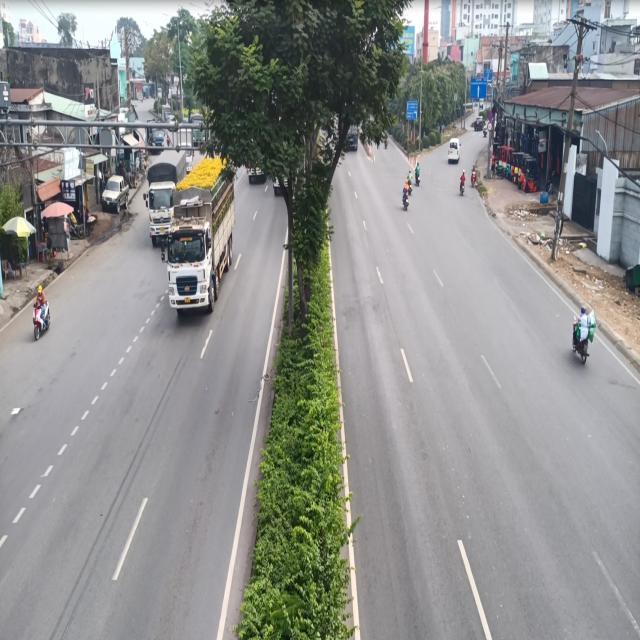car: (443, 128, 461, 170)
motor: (571, 292, 599, 374), (30, 276, 53, 351)
truck: (164, 154, 240, 326), (144, 143, 182, 238)
